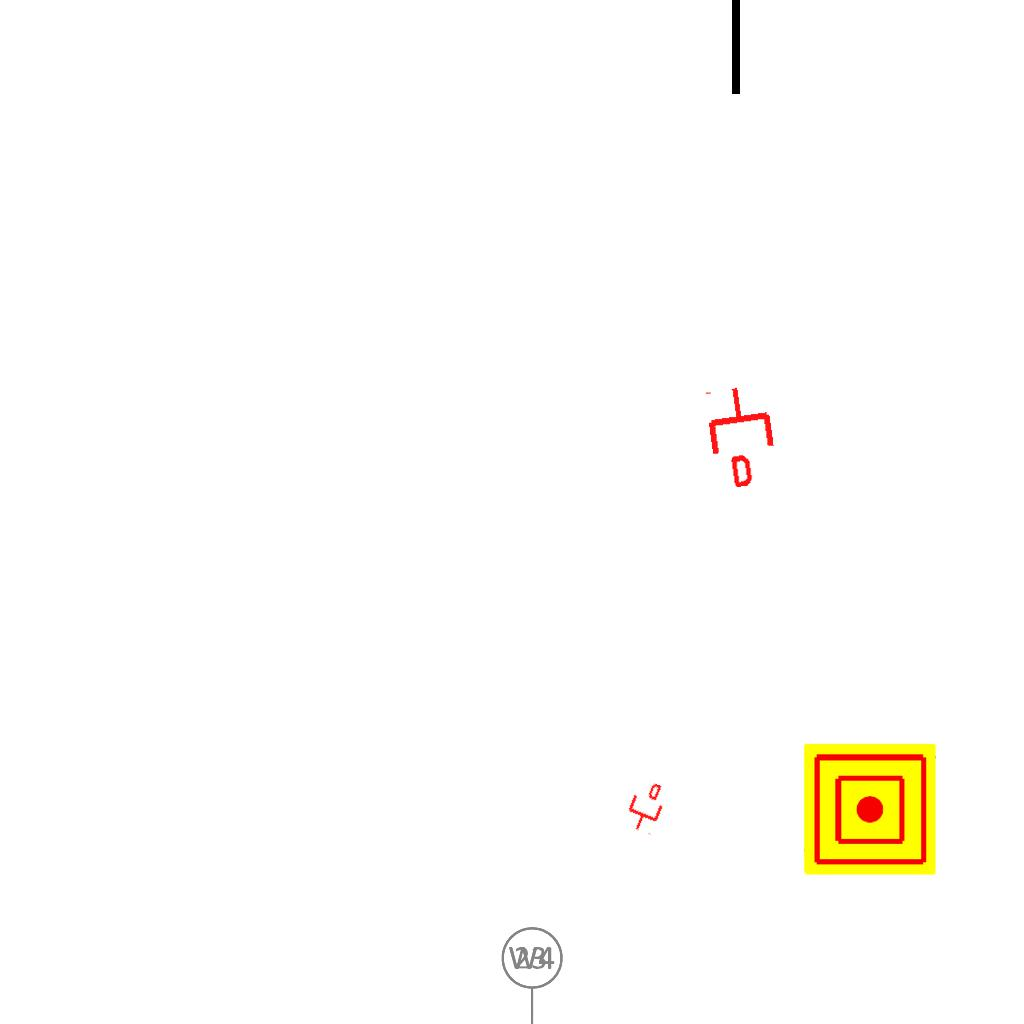Datenanschluss_einfach: (700, 381, 783, 491), (620, 777, 672, 837)
NAM-Nichtautomatischer_Melder: (804, 743, 936, 875)
